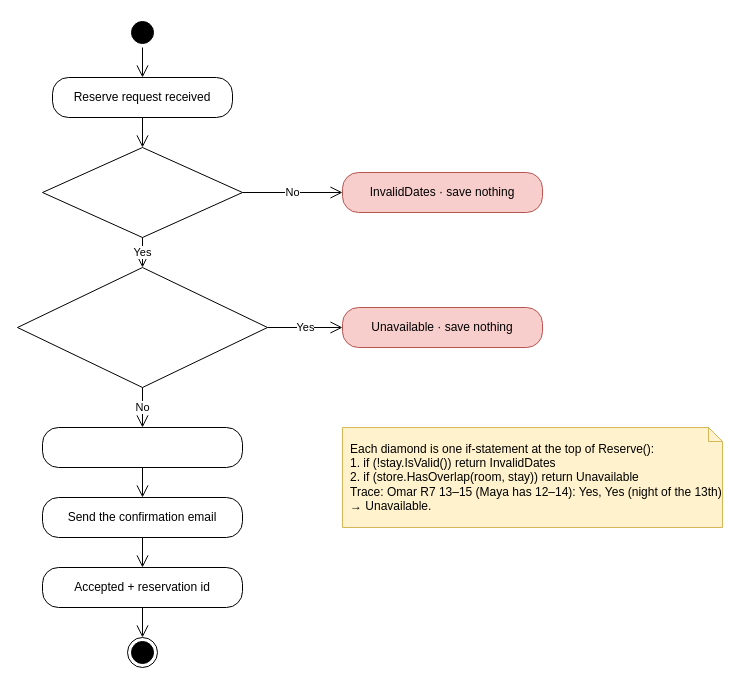
The diagram is 740 pixels wide and 685 high, and some of its shapes have lost their labels. The box of each missing label's shape, as (x1, y1, x2, y2) in pixels:
A Confirmed booking shares a night?: (16, 266, 268, 388)
Check-out after check-in?: (42, 146, 242, 238)
Save the reservation as Confirmed: (42, 426, 242, 468)
